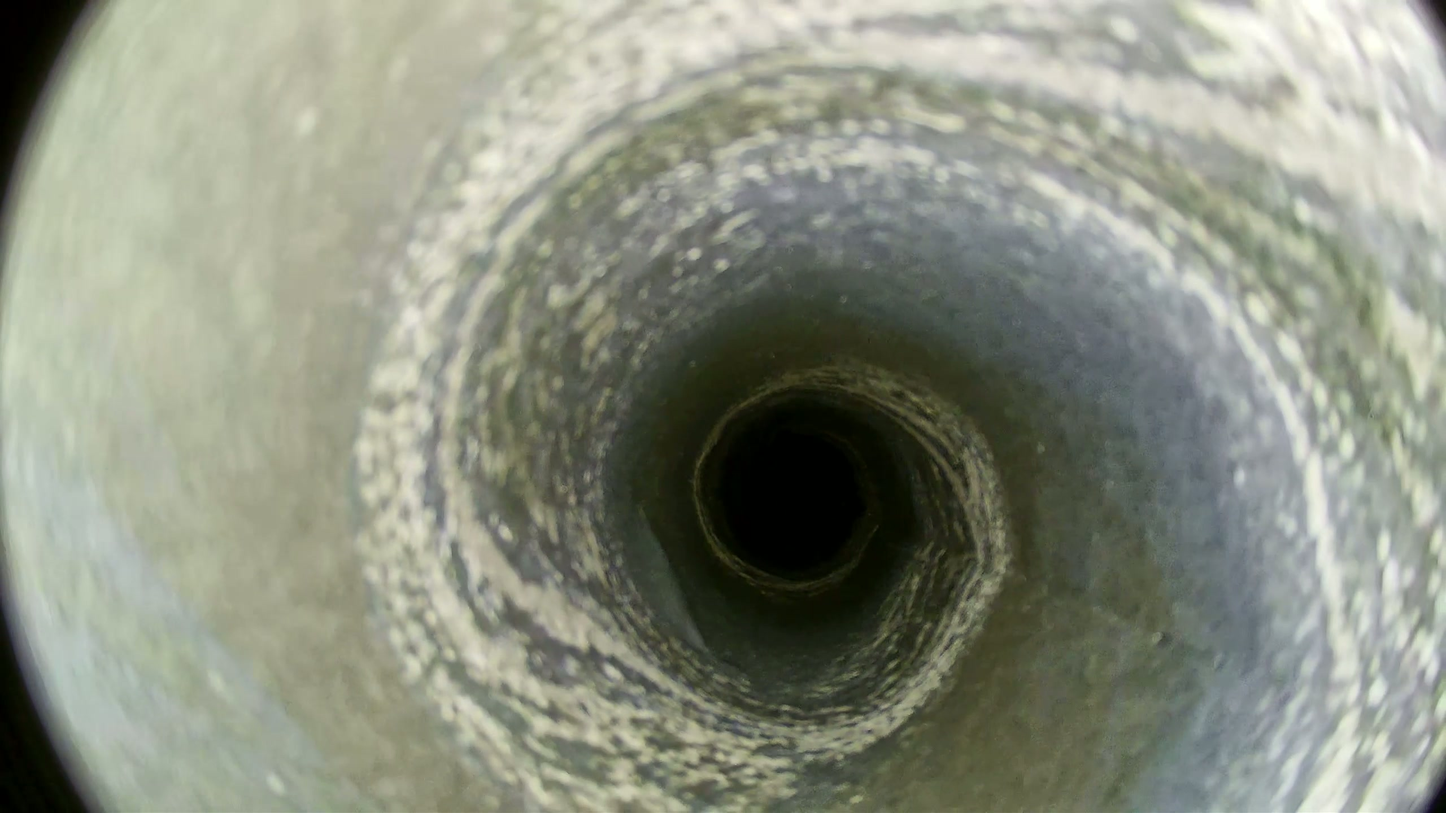hole: (727, 433, 858, 569)
